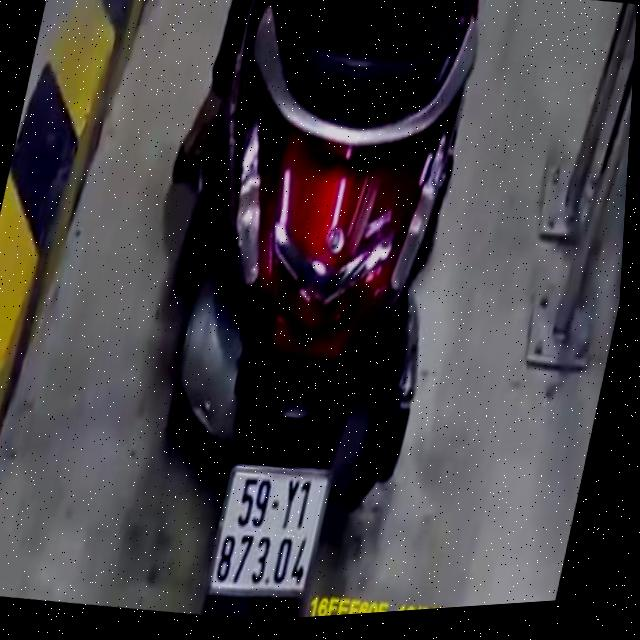motorcycle: (95, 0, 523, 631)
plate: (192, 445, 338, 609)
